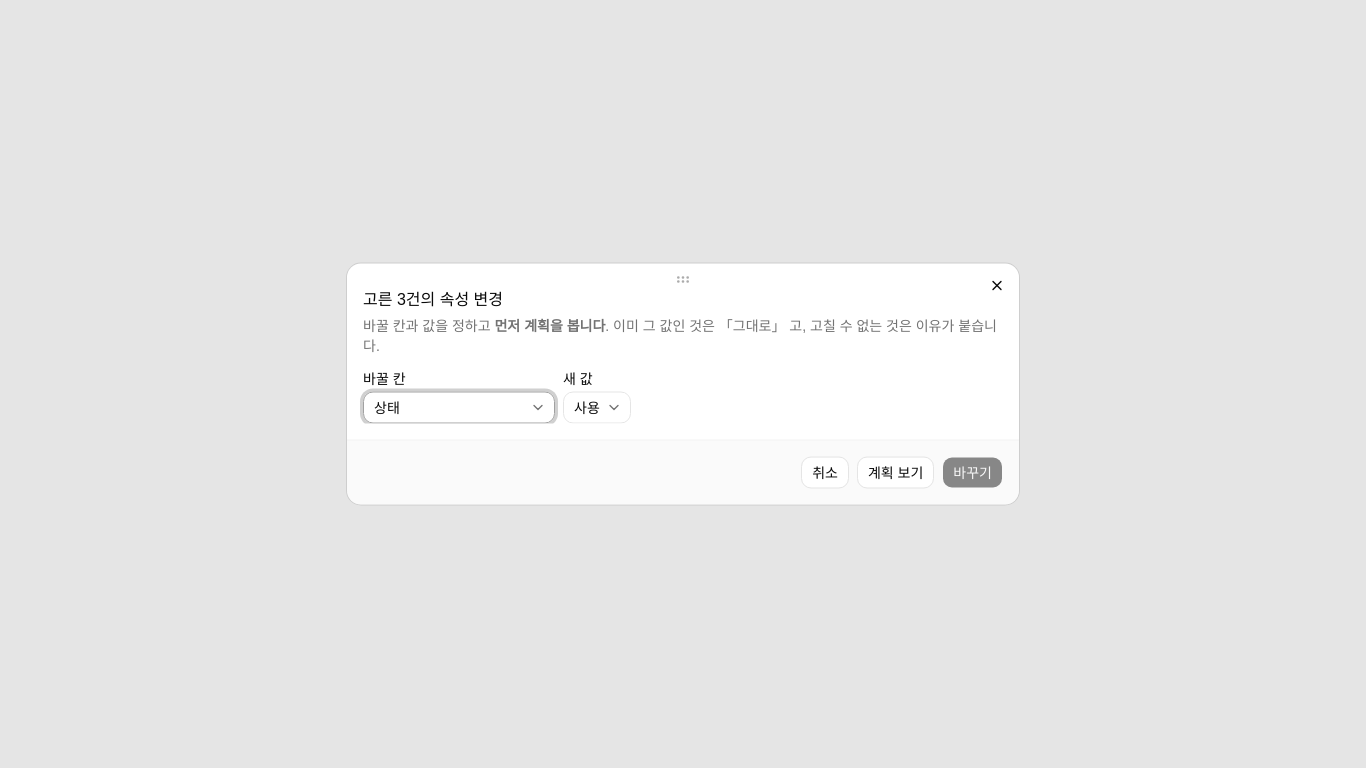
Test case: 여럿 골라 속성 변경 › 칸을 바꾸면 계획을 버린다 — 지난 계획을 보고 적용하지 않게
Click the button "계획 보기" at (896, 472), box [857,456,934,488]
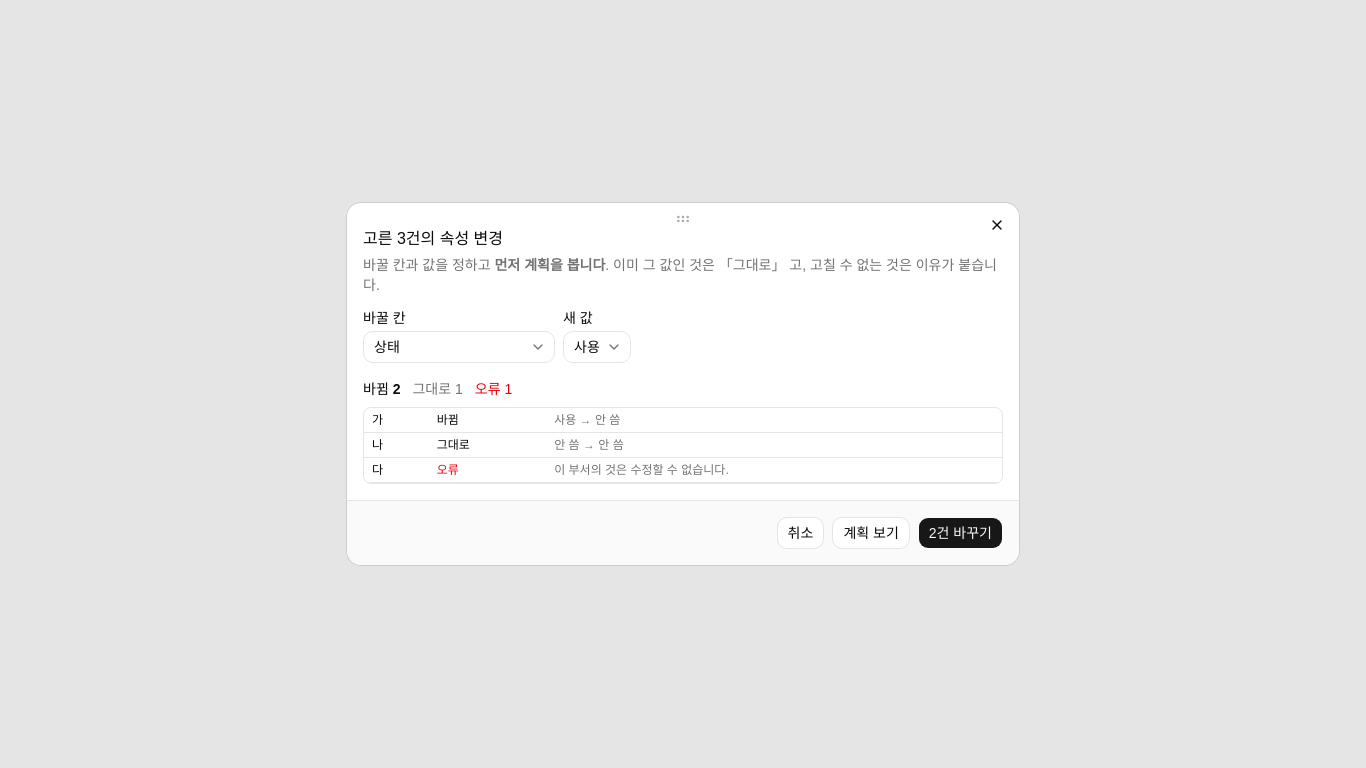
Expected: the button "2건 바꾸기" is shown, [918,517,1003,549]
첫 고르개가 「바꿀 칸」 이다.
Click the dropdown labelled "상태" at (459, 347), box [363,331,555,363]
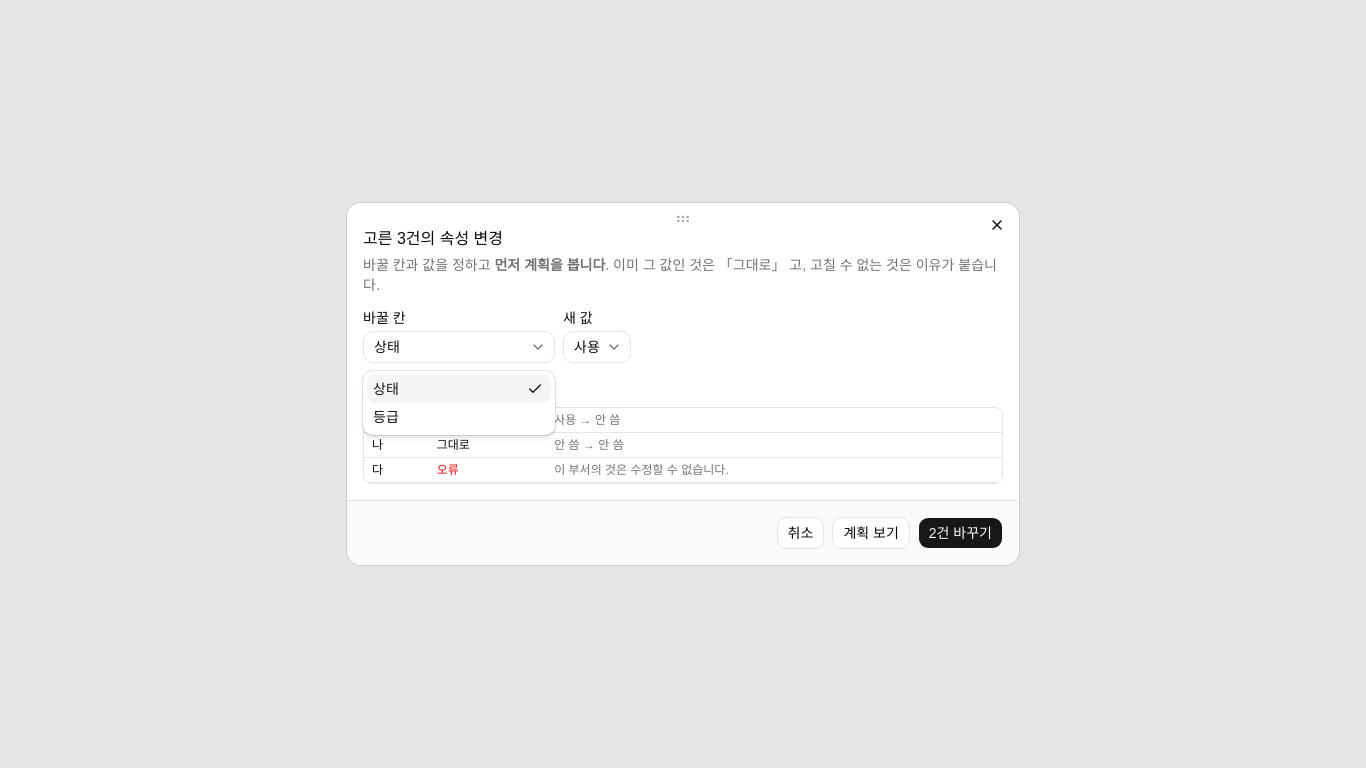
Click the option "등급" at (386, 417), box [373,409,399,425]
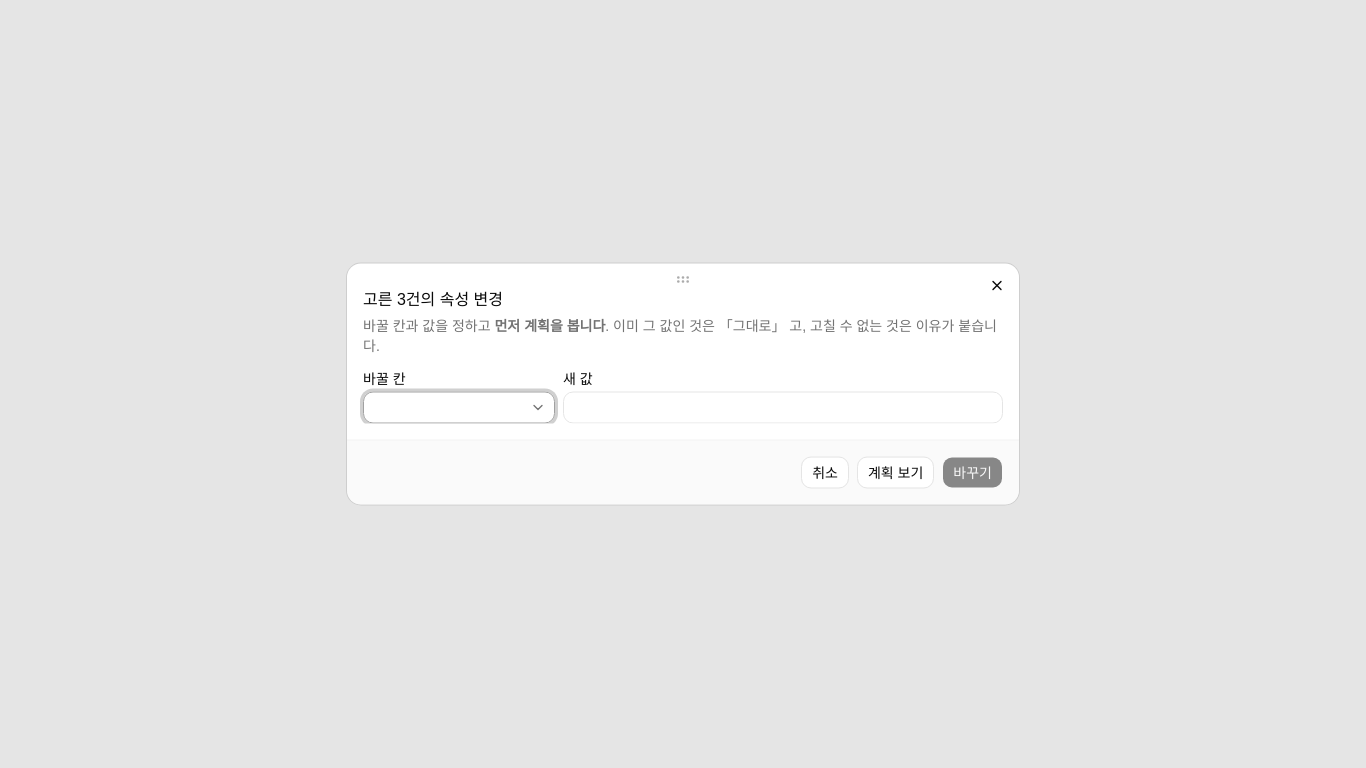
Expected: the button "바꾸기" is disabled, [942,456,1003,488]
Expected: the text "사용 → 안 씀" is gone
